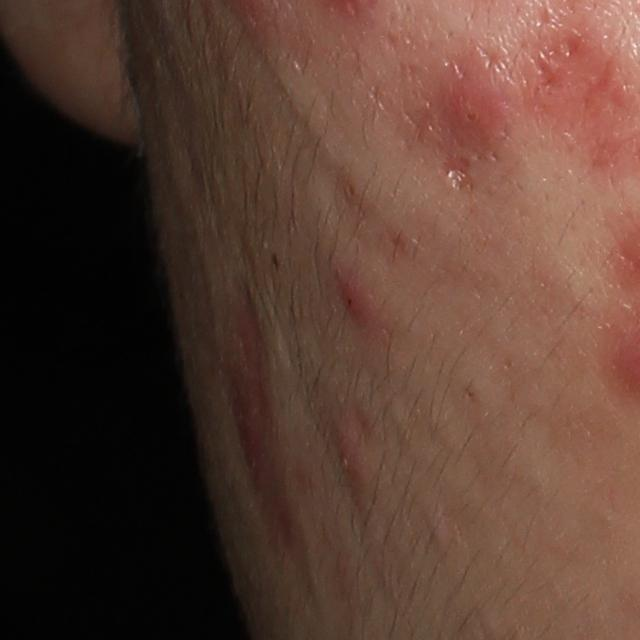papule: (437, 79, 514, 154), (329, 418, 370, 495), (337, 272, 381, 323)
